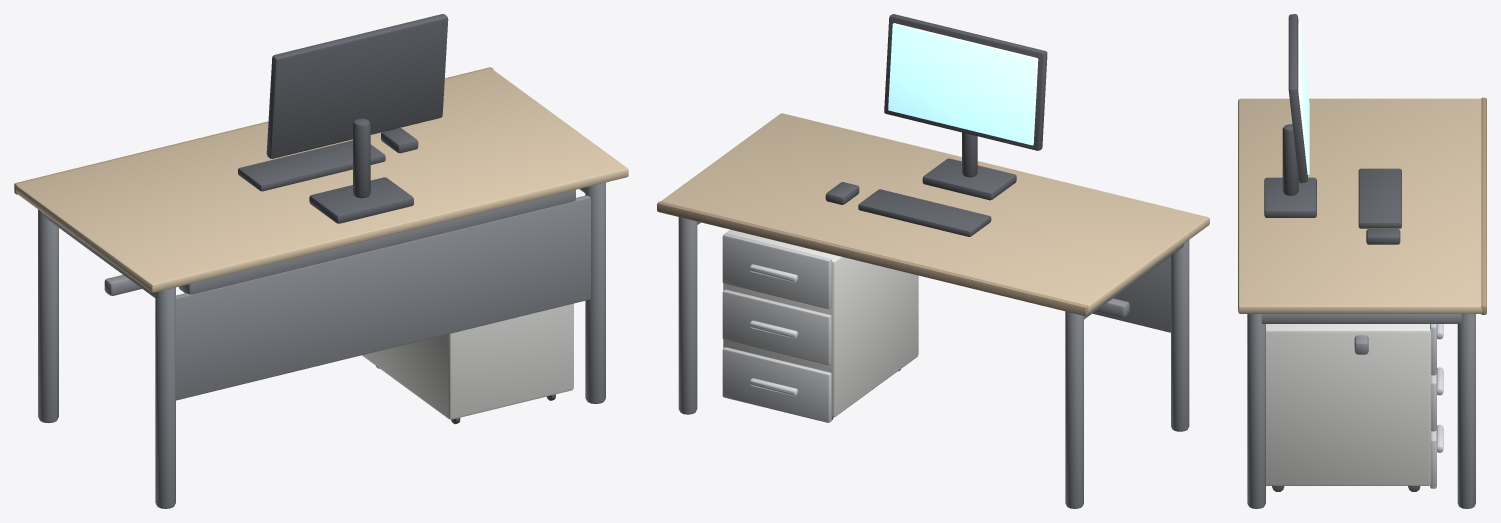
File: th11_schreibtisch.glb
The picture shows the model from 3 angles, left to right: view 1: azimuth 30°, elevation 25°; view 2: azimuth 150°, elevation 25°; view 3: azimuth 270°, elevation 25°; orthographic projection. The views are drawn at different scales.
Visible parts, largest first — view 1: Cube, Cube.005, Cube.012, Cube.007, Cube.006, Cylinder, Cylinder.001, Cylinder.002, Cube.014, Cube.011, Cylinder.011, Cube.001; view 2: Cube, Cube.013, Cube.007, Cube.010, Cube.008, Cube.009, Cube.001, Cylinder.003, Cylinder.001, Cube.012, Cylinder, Cube.014 (+3 smaller); view 3: Cube, Cube.007, Cylinder.002, Cylinder.003, Cube.014, Cube.003, Cube.011, Cube.012, Cube.001, Cube.013, Cylinder.011, Cube.015 (+3 smaller).
Part boxes in pixels (<box>): Cube: <box>16,70,628,292</box>; Cube.005: <box>176,195,590,400</box>; Cube.012: <box>266,14,448,158</box>; Cube.007: <box>362,303,573,419</box>; Cube.006: <box>179,190,575,294</box>; Cylinder: <box>155,287,175,508</box>; Cylinder.001: <box>38,209,58,422</box>; Cylinder.002: <box>585,182,605,403</box>; Cube.014: <box>238,140,385,191</box>; Cube.011: <box>309,177,413,223</box>; Cylinder.011: <box>353,118,370,198</box>; Cube.001: <box>14,67,493,194</box>; Cube: <box>661,113,1209,312</box>; Cube.013: <box>888,23,1038,145</box>; Cube.007: <box>723,229,918,417</box>; Cube.010: <box>722,233,831,308</box>; Cube.008: <box>722,347,831,422</box>; Cube.009: <box>722,289,831,365</box>; Cube.001: <box>657,201,1088,315</box>; Cylinder.003: <box>678,217,697,414</box>; Cylinder.001: <box>1065,311,1083,508</box>; Cube.012: <box>884,14,1047,150</box>; Cylinder: <box>1171,240,1189,431</box>; Cube.014: <box>858,189,991,236</box>; Cube: <box>1238,98,1482,313</box>; Cube.007: <box>1266,324,1431,485</box>; Cylinder.002: <box>1247,314,1265,508</box>; Cylinder.003: <box>1457,314,1475,508</box>; Cube.014: <box>1358,168,1401,228</box>; Cube.003: <box>1261,314,1461,323</box>; Cube.011: <box>1264,177,1316,217</box>; Cube.012: <box>1288,14,1307,182</box>; Cube.001: <box>1481,97,1486,314</box>; Cube.013: <box>1298,21,1309,174</box>; Cylinder.011: <box>1282,124,1298,195</box>; Cube.015: <box>1366,229,1400,244</box>.
Bounding box in the file's own units: 1.6 × 1.29 × 0.805.
